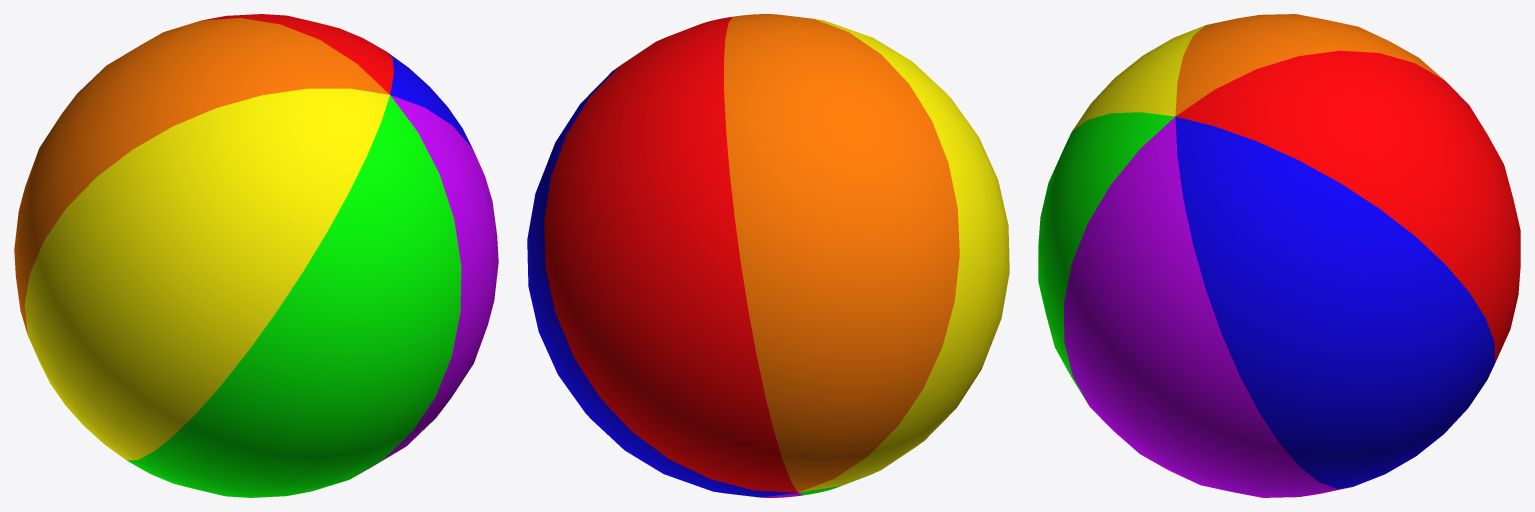
The model's file is Pool Ball.fbx.
3 renders of one model, left to right at view 1: azimuth 30°, elevation 25°; view 2: azimuth 150°, elevation 25°; view 3: azimuth 270°, elevation 25°, orthographic.
Visible parts, largest first — view 1: Pool Ball; view 2: Pool Ball; view 3: Pool Ball.
Boxes of the visible parts, bbox=[...] form: Pool Ball: bbox=[14, 14, 498, 497]; Pool Ball: bbox=[527, 14, 1009, 497]; Pool Ball: bbox=[1038, 14, 1520, 497].
Bounding box in the file's own units: 40 × 39.91 × 39.77.
